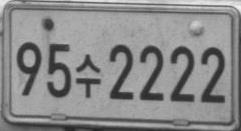2: (200, 46, 226, 103), (170, 44, 195, 102), (108, 43, 133, 100), (139, 44, 163, 101)
5: (46, 43, 72, 97)
9: (15, 41, 42, 96)
수: (75, 53, 101, 98)
